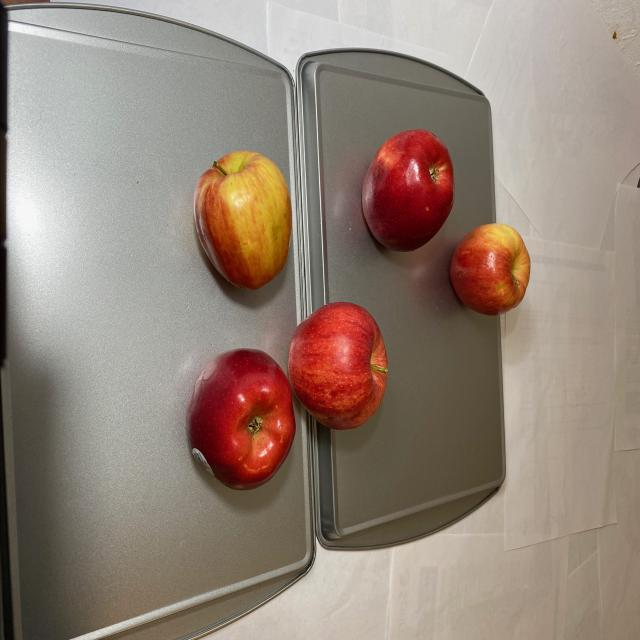apple: (170, 148, 390, 492), (362, 128, 528, 317)
